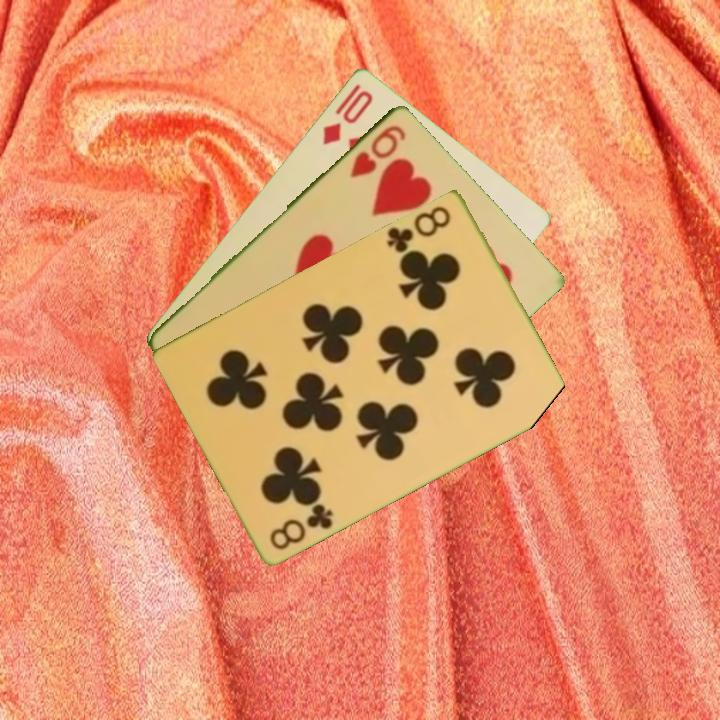10d: (318, 86, 376, 147)
6h: (346, 120, 409, 180)
8c: (383, 201, 454, 261), (266, 499, 336, 553)
